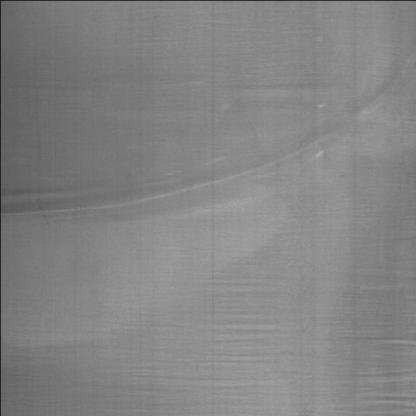waist_folding: (166, 202, 414, 408)
